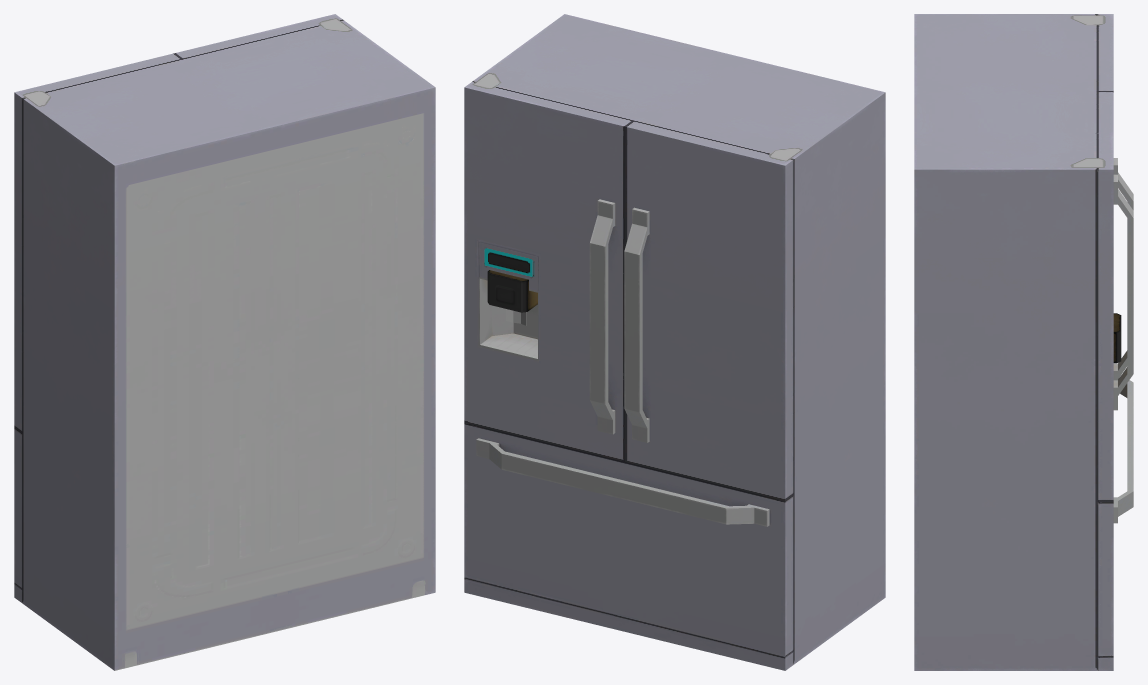
Rendered from P_Refrigerator_002_S1_M02.obj.
The picture shows the model from 3 angles, left to right: view 1: azimuth 30°, elevation 25°; view 2: azimuth 150°, elevation 25°; view 3: azimuth 270°, elevation 25°; orthographic projection.
Size of the model in its own units: 1.33 by 2 by 0.7919.
1 material, 1 textured.
